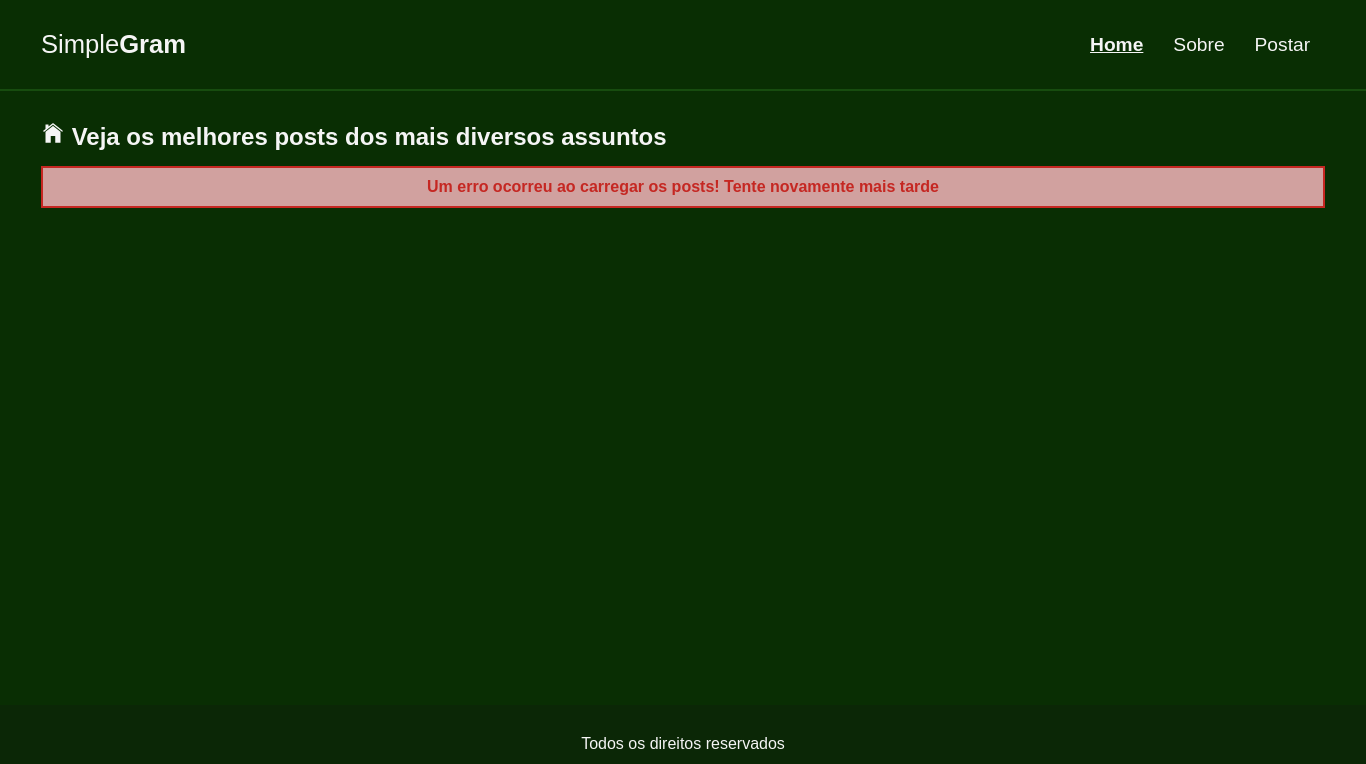
Test: CreatePost Page › should show min length error for title and description
This screenshot has width=1366, height=764.
Click the link to "/posts/create" at (1283, 45), box [1255,34,1311,55]
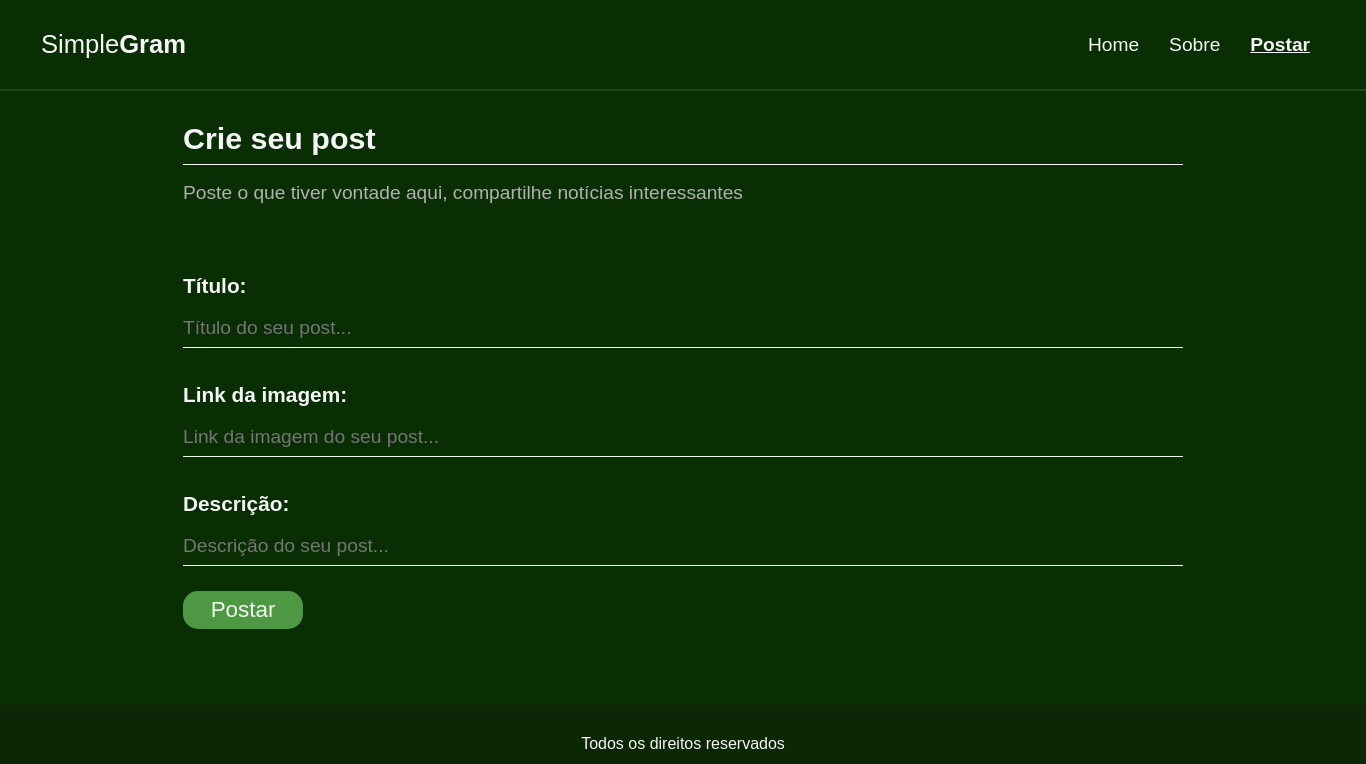
Type "a" into the field with id "title" at (683, 328), box [183,308,1183,348]
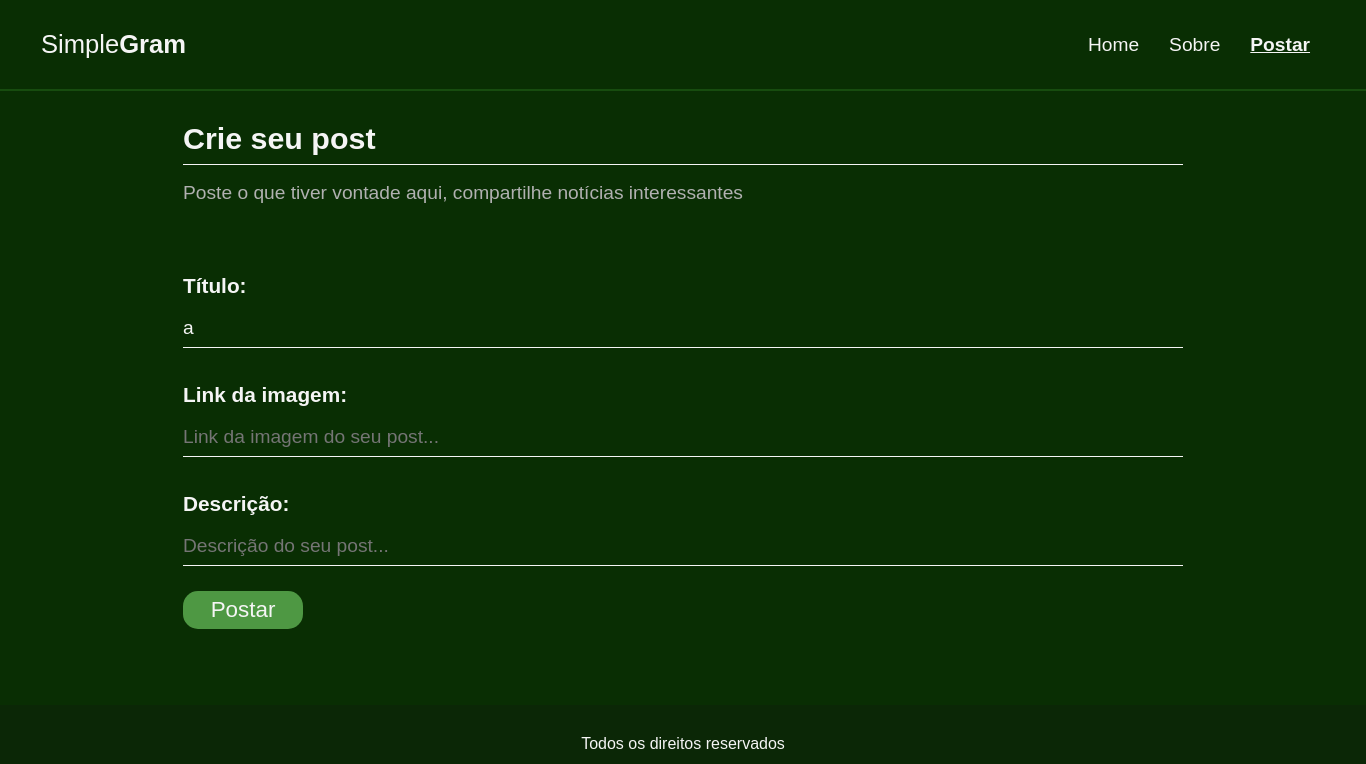
Type "https://static.todamateria.com.br/upload/pl/an/planetaterra-cke.jpg" into the field with id "imageUrl" at (683, 437), box [183,417,1183,457]
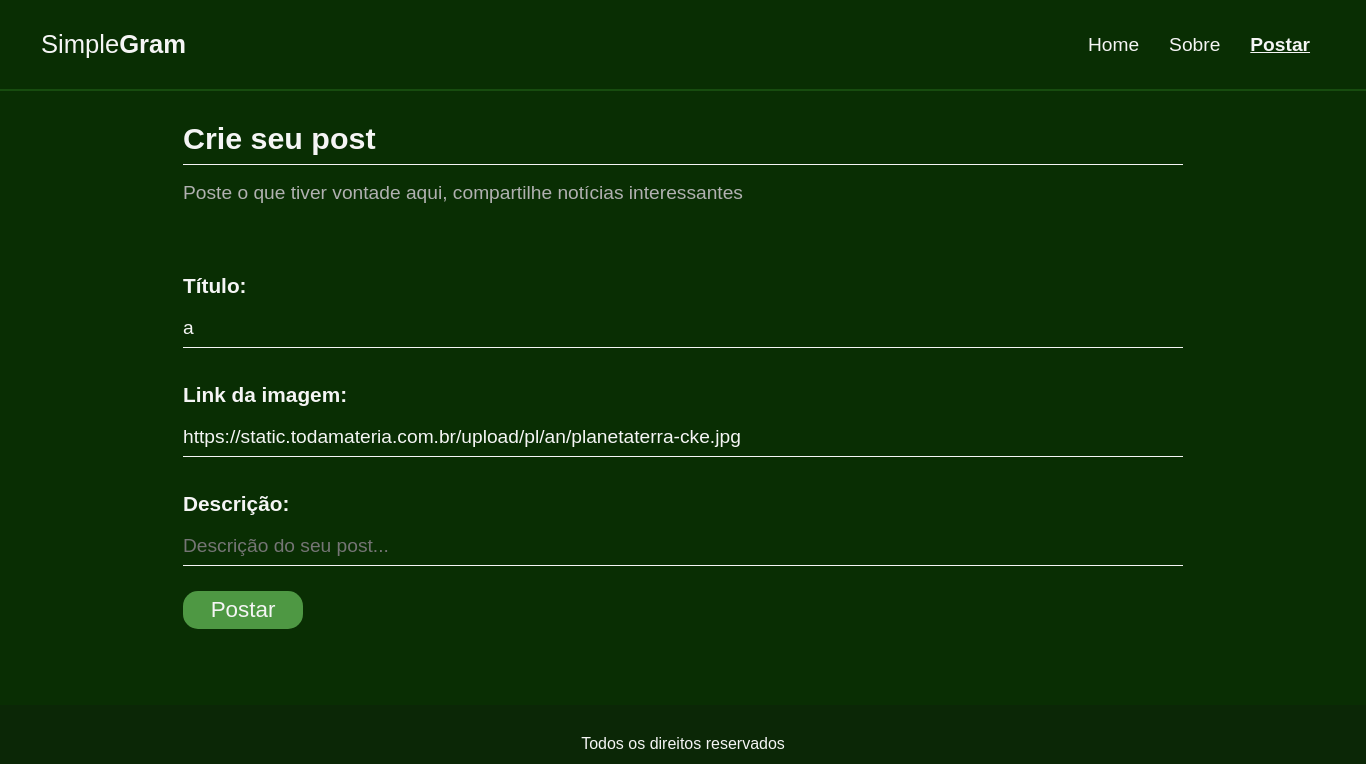
Type "a" into the field with id "description" at (683, 546), box [183,526,1183,566]
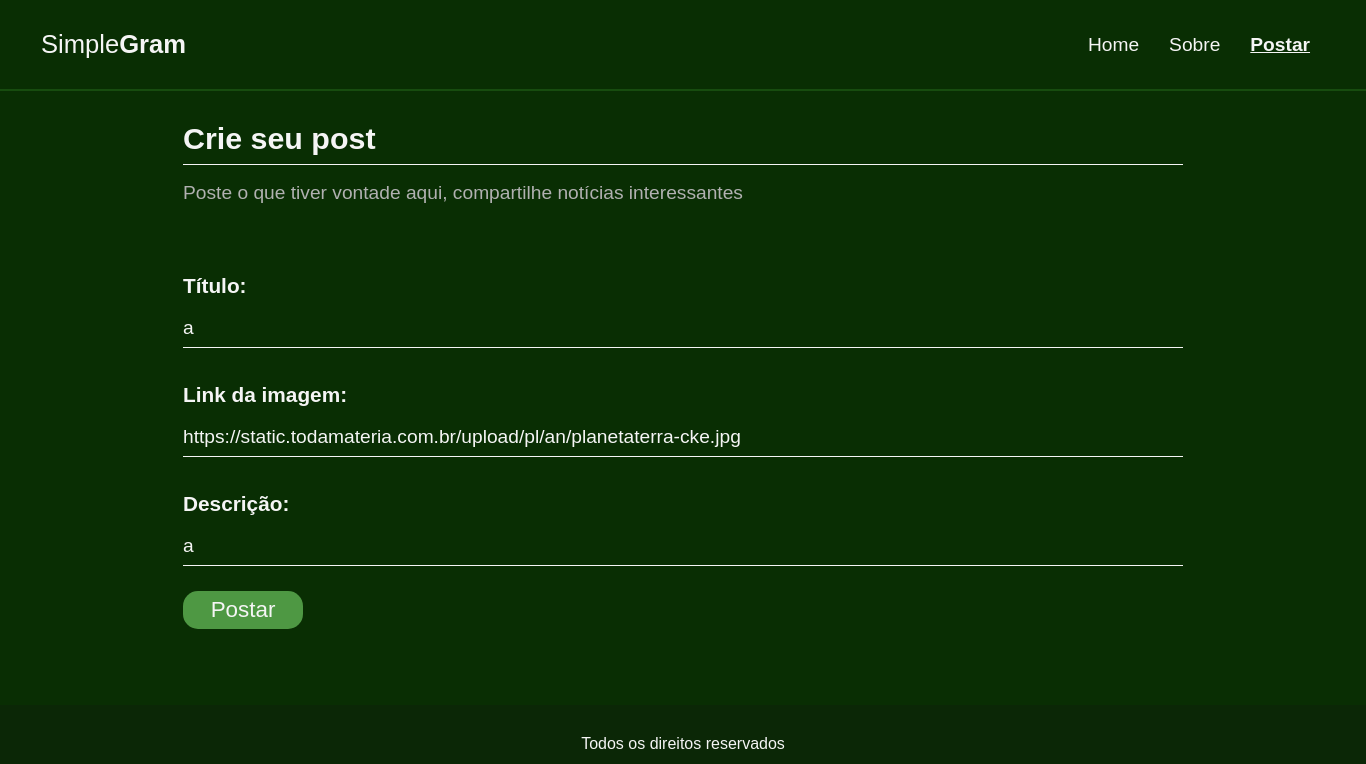
Click the button "Postar" at (243, 610), box [183,591,303,629]
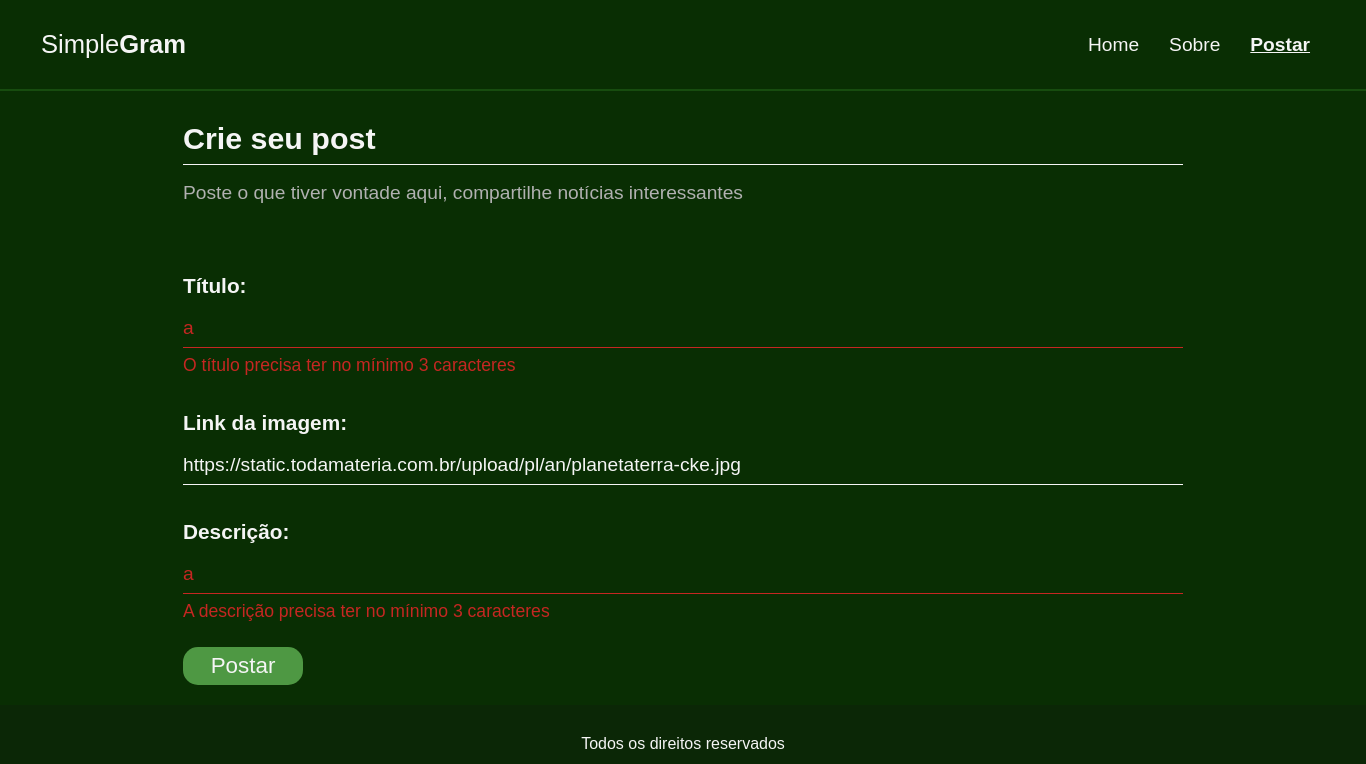
Result: the text "O título precisa ter no mínimo 3 caracteres" is shown at [183,355,516,375]
Result: the number of elements with test id "error_form" is 2 at [183,355,516,375]; [183,601,550,621]
Result: the text "A descrição precisa ter no mínimo 3 caracteres" is shown at [183,601,550,621]
